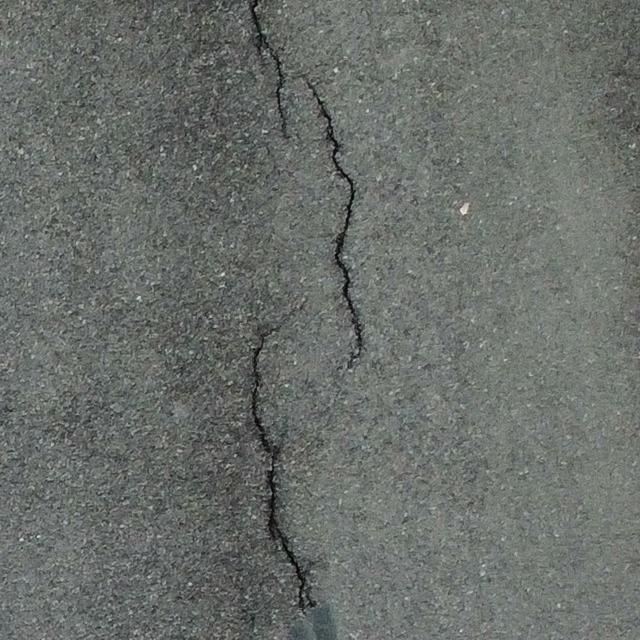LongitudinalCrack: (246, 1, 369, 366), (252, 323, 316, 612)
